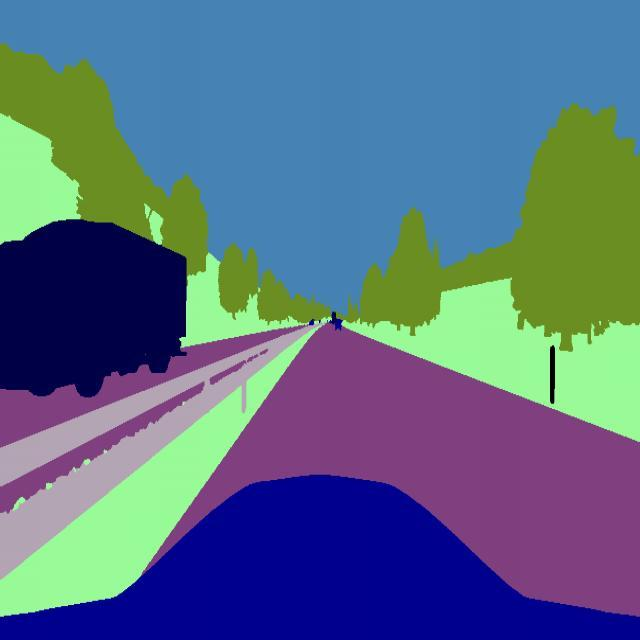safe: (0, 215, 189, 400), (332, 316, 348, 333)
